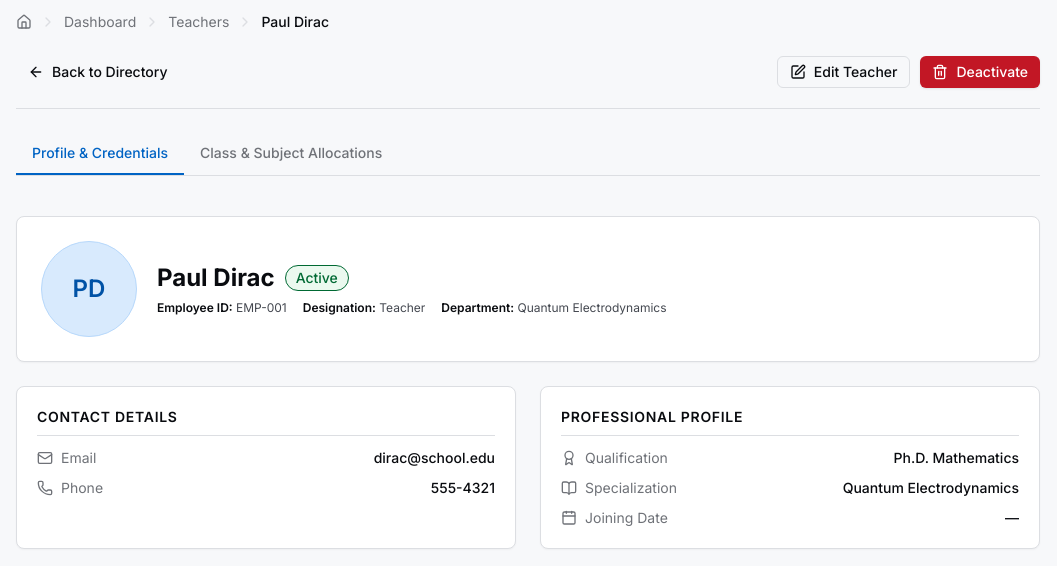
TeacherDetailsPage › should render teacher profile, credentials, and allocations tabs
This screenshot has width=1057, height=566.
Expected: the heading "Paul Dirac" is shown, left=157, top=262, right=275, bottom=294
Expected: the text "EMP-001" is shown, left=236, top=300, right=287, bottom=315
// Switch to Allocations tab
Click the tab "Class & Subject Allocations" at (291, 154), box left=184, top=133, right=398, bottom=175
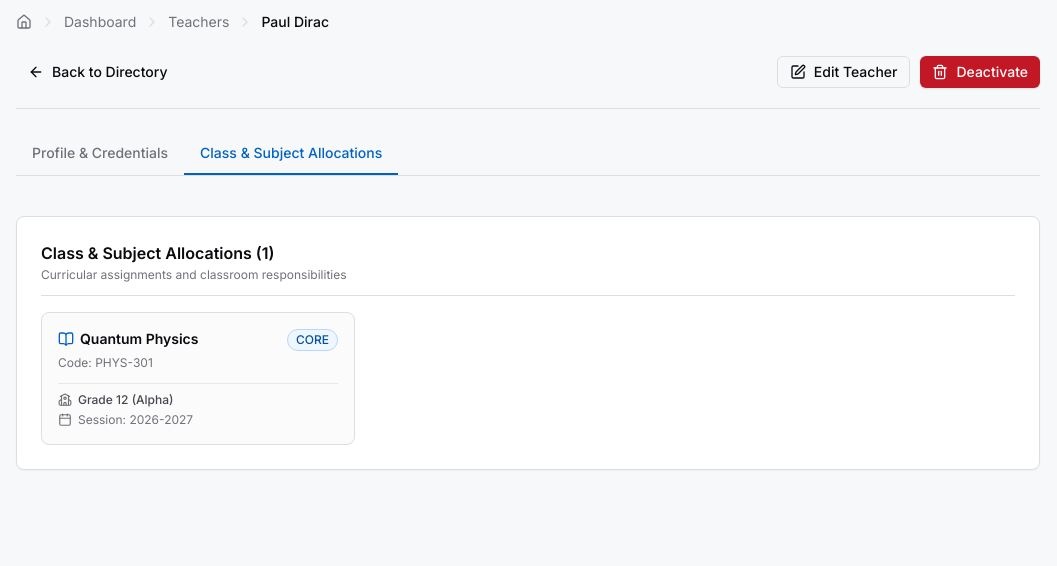
Expected: the heading "Quantum Physics" is shown, left=58, top=329, right=198, bottom=349
Expected: the text "Grade 12 (Alpha)" is shown, left=58, top=392, right=174, bottom=407
